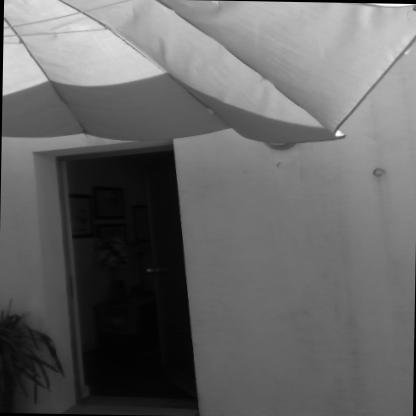open: (21, 133, 203, 410)
